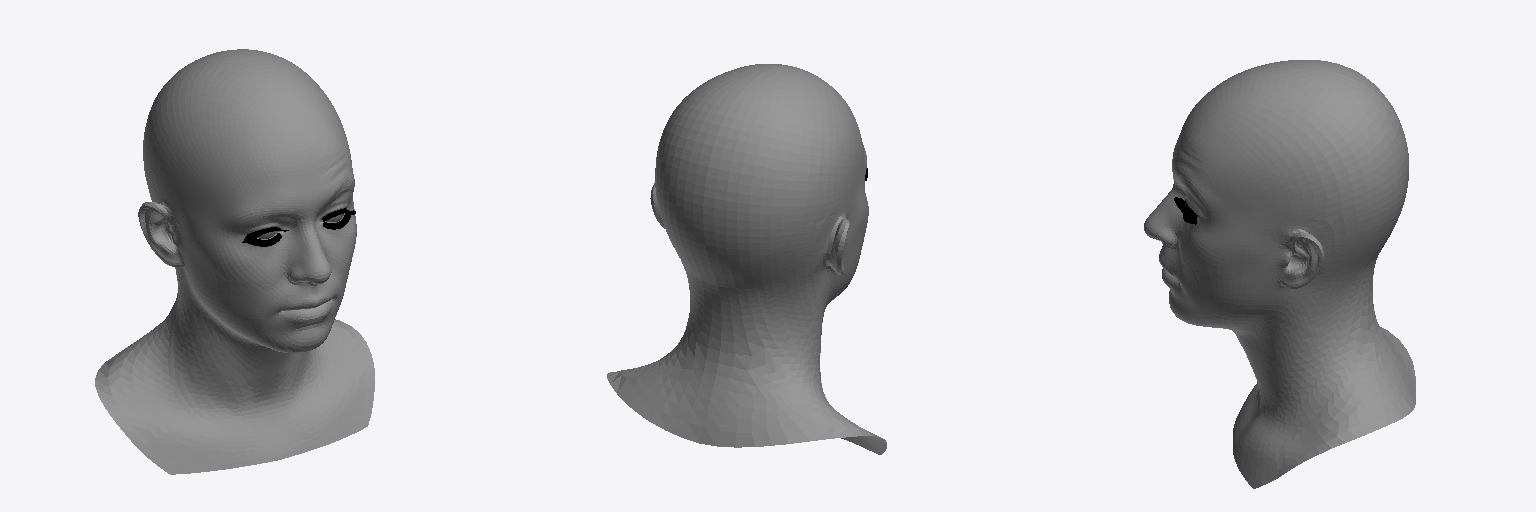
Rendered from browOuterUp_L.obj.
The picture shows the model from 3 angles: view 1: azimuth 30°, elevation 25°; view 2: azimuth 150°, elevation 25°; view 3: azimuth 270°, elevation 25°; orthographic projection.
Size of the model in its own units: 24.83 by 33.81 by 22.32.